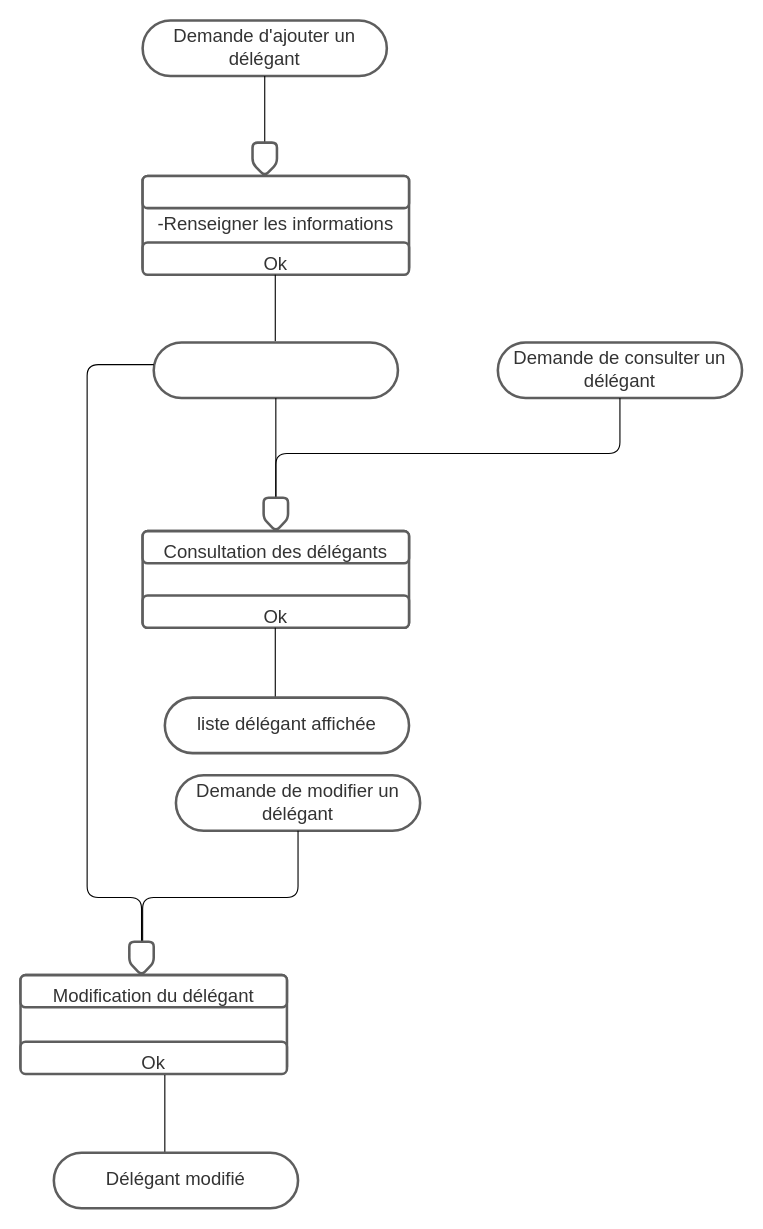
The diagram is 763 pixels wide and 1229 high, and some of its shapes have lost their labels. The shapes that lost their labels are listed below. From the top down, each one's centre as x and y in pixels, then its label:
At (x=275, y=191): "Ajouter un délégant".
At (x=275, y=370): "Délégant ajouté".
